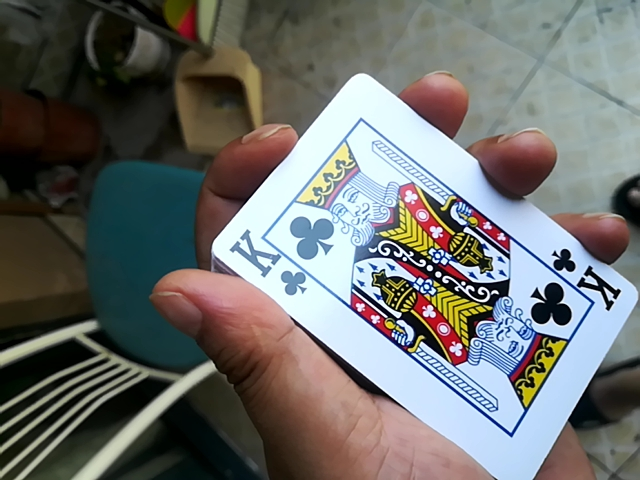mh k: (181, 76, 635, 479)
